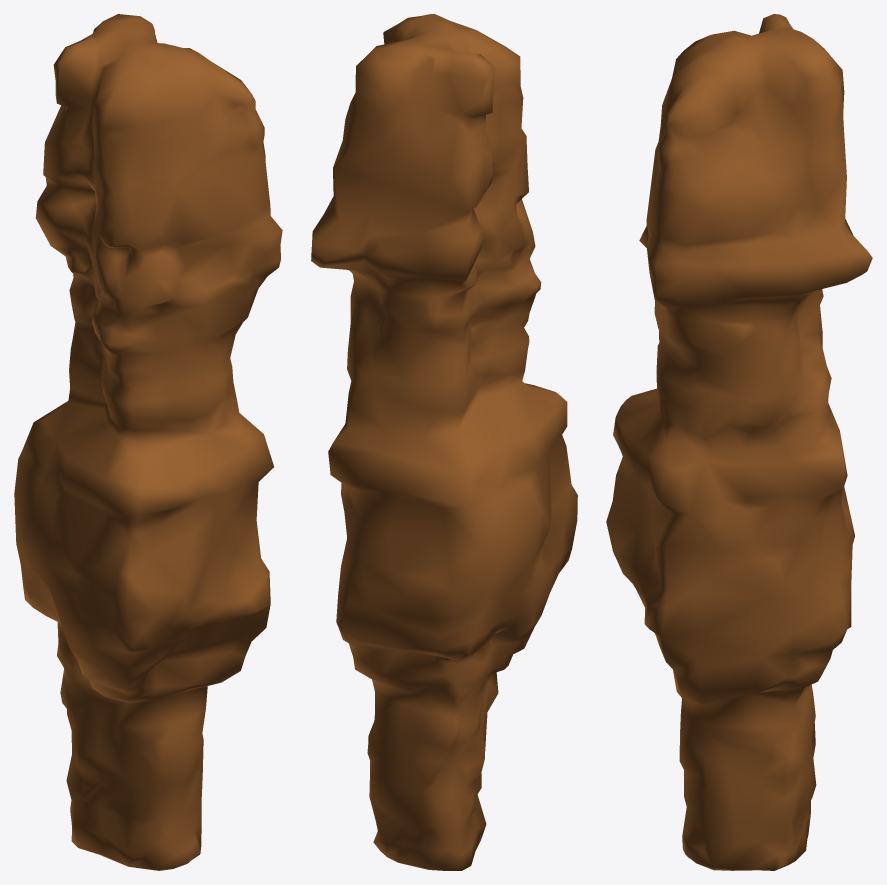
The model's file is MSH_Rocks_Cliff_23_a.FBX.
3 views of the same model, side by side, from view 1: azimuth 30°, elevation 25°; view 2: azimuth 150°, elevation 25°; view 3: azimuth 270°, elevation 25° (orthographic).
Parts seen in each view (by area): view 1: MESH_LOD0; view 2: MESH_LOD0; view 3: MESH_LOD0.
Part boxes in pixels (left/top/right/bottom): MESH_LOD0: left=14, top=14, right=282, bottom=870; MESH_LOD0: left=311, top=14, right=577, bottom=870; MESH_LOD0: left=606, top=14, right=872, bottom=870.
Size of what is drawn, in the model's own units: 143 by 567 by 168.
